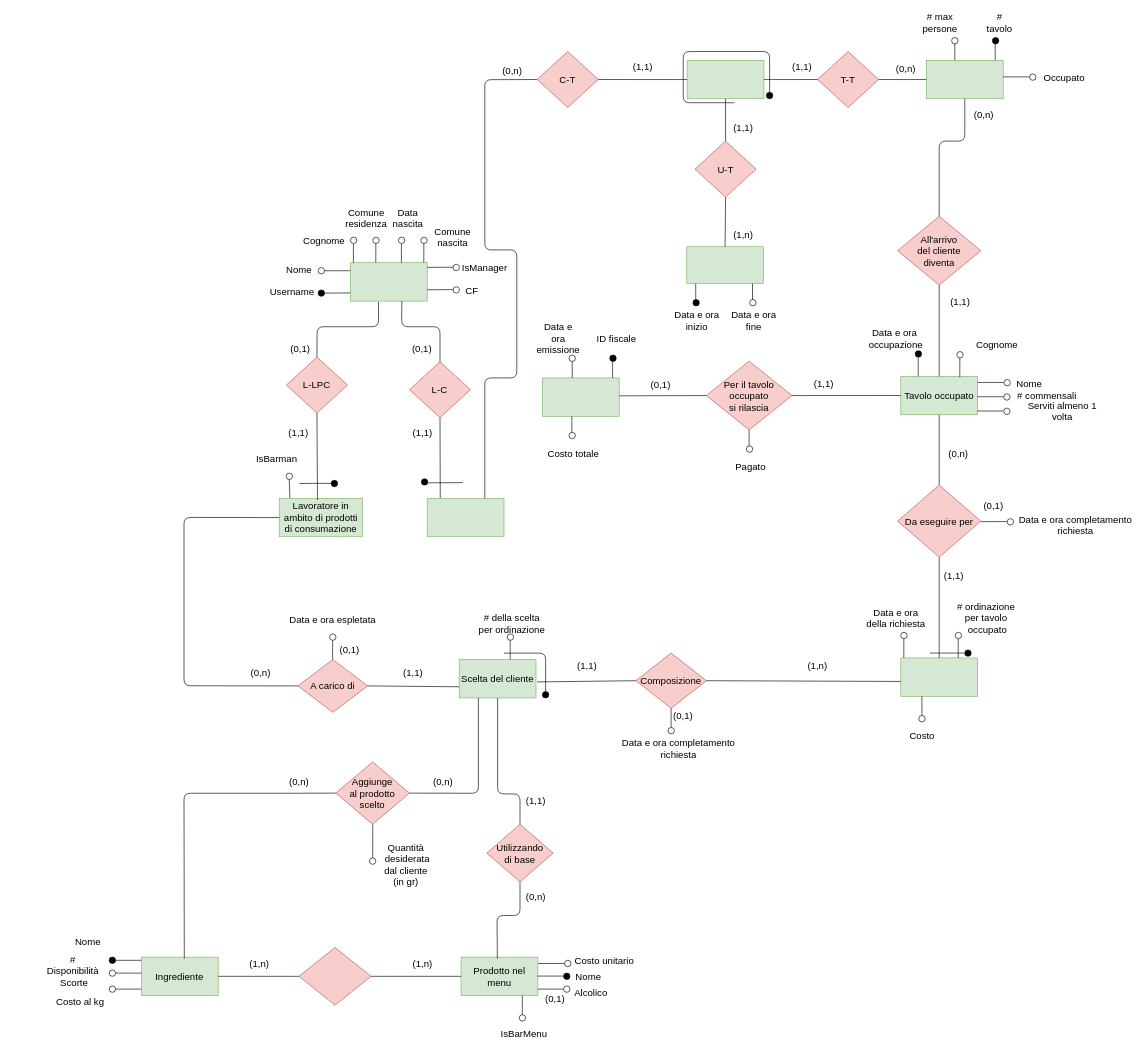
Some shapes in this 1145 by 1052 pixel diagram are drawn without their labels. Here are the shapes that lost their labels. From the top down, the centre of each, then its label:
At (725,79): "Turno assegnato".
At (964,79): "Tavolo".
At (388,281): "Lavoratore".
At (725,265): "Turno".
At (580,396): "Scontrino".
At (465,517): "Cameriere".
At (939,676): "Ordinazione".
At (334,976): "Composto di base".
